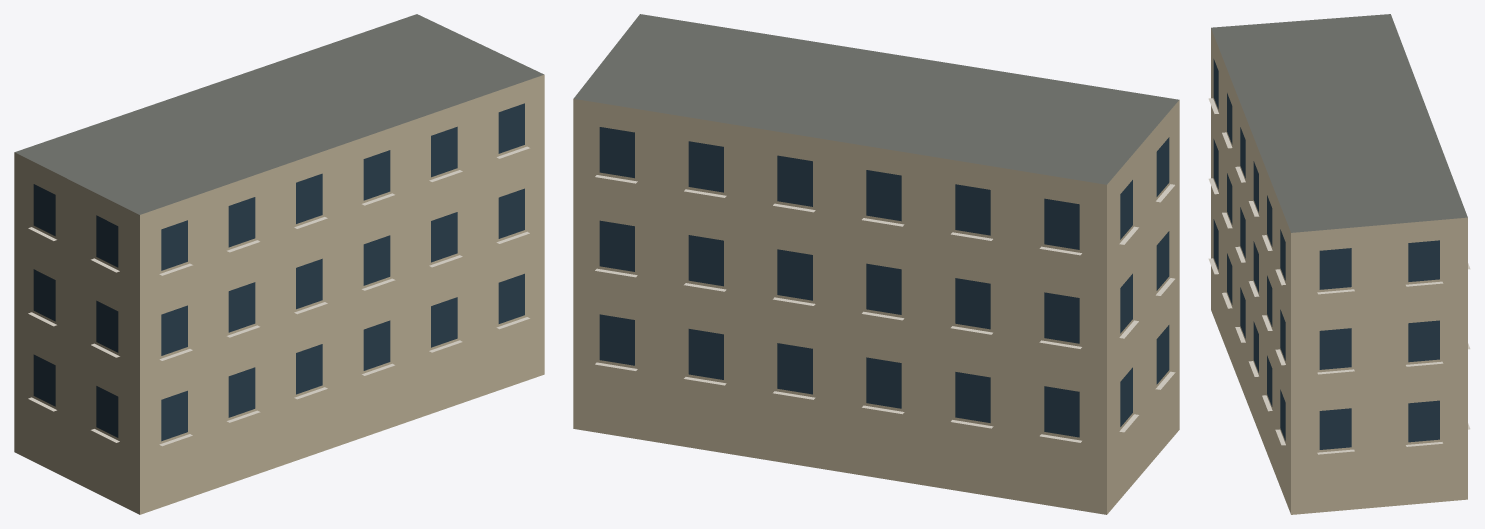
The picture shows the model from 3 angles, left to right: view 1: azimuth 30°, elevation 25°; view 2: azimuth 150°, elevation 25°; view 3: azimuth 270°, elevation 25°; orthographic projection. The views are drawn at different scales.
Visible parts, largest first — view 1: Footprint 0, Inferred window bays, Window sills; view 2: Footprint 0, Inferred window bays, Window sills; view 3: Footprint 0, Inferred window bays, Window sills.
Boxes of the visible parts, bbox=[...] form: Footprint 0: bbox=[14, 14, 544, 514]; Inferred window bays: bbox=[33, 103, 524, 441]; Window sills: bbox=[28, 146, 529, 446]; Footprint 0: bbox=[573, 14, 1179, 514]; Inferred window bays: bbox=[599, 127, 1169, 437]; Window sills: bbox=[595, 175, 1175, 442]; Footprint 0: bbox=[1211, 14, 1467, 514]; Inferred window bays: bbox=[1213, 59, 1439, 449]; Window sills: bbox=[1208, 98, 1470, 454].
Size of the model in its own units: 19.91 by 11.91 by 10.03.
